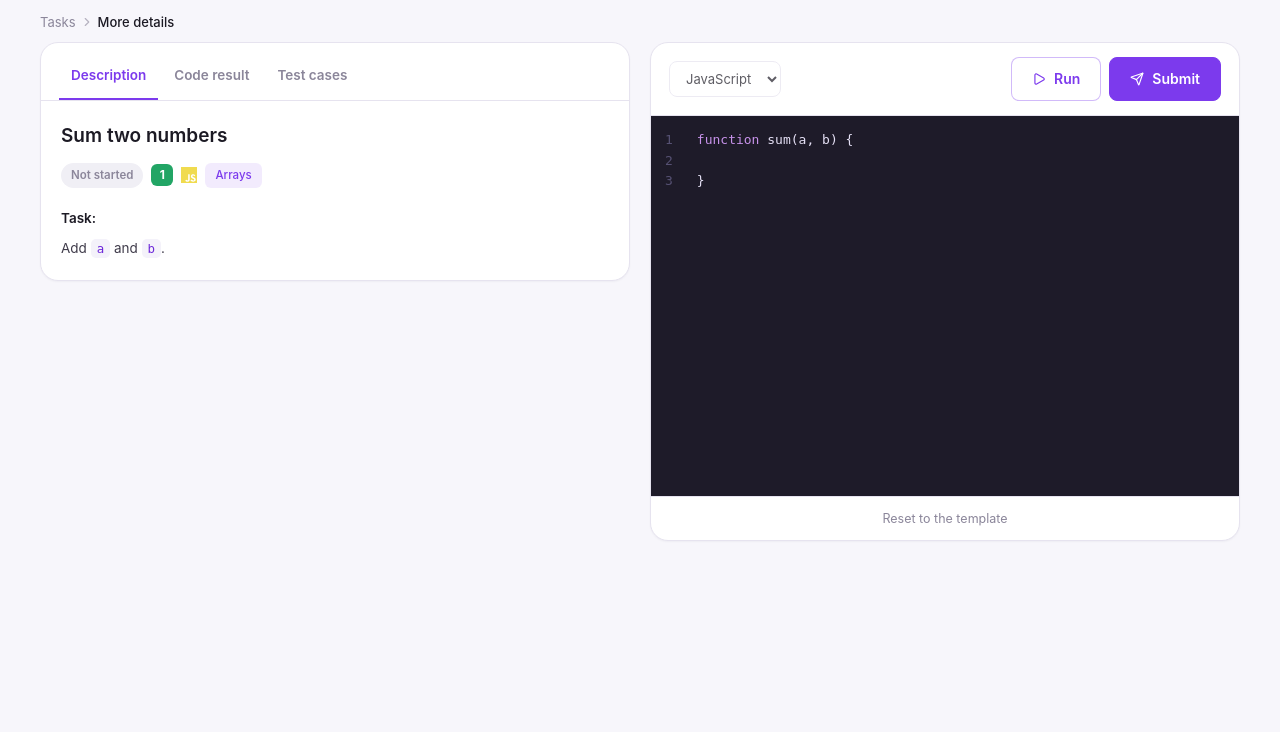
Scenario: Submit › does not touch progress when the run itself failed
What coordinates should you click on to do the following:
click the button "Submit"
I would click on:
 (1165, 79)
Its box is [1109,57,1221,101].
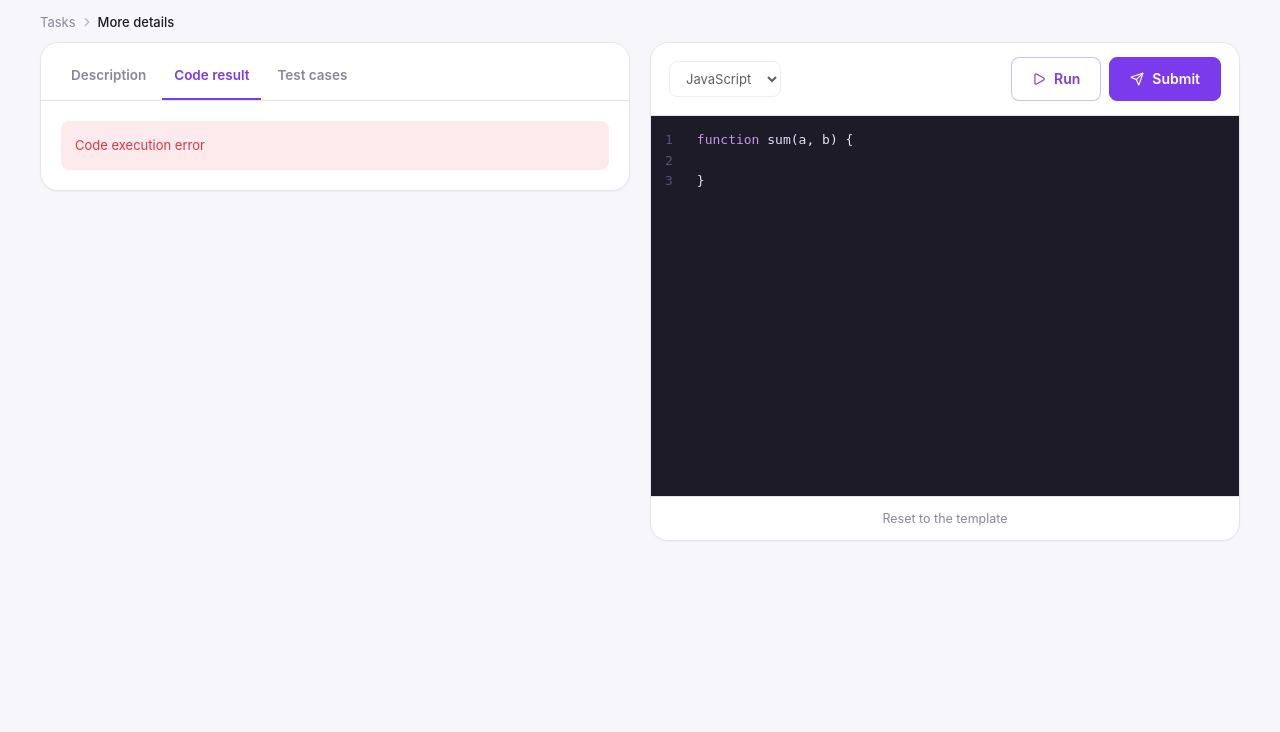
Expected: the text "Code execution error" is shown, [61,121,609,170]
